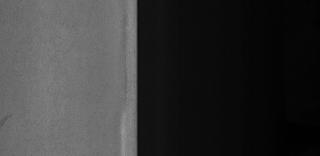water spot: (2, 109, 16, 133)
